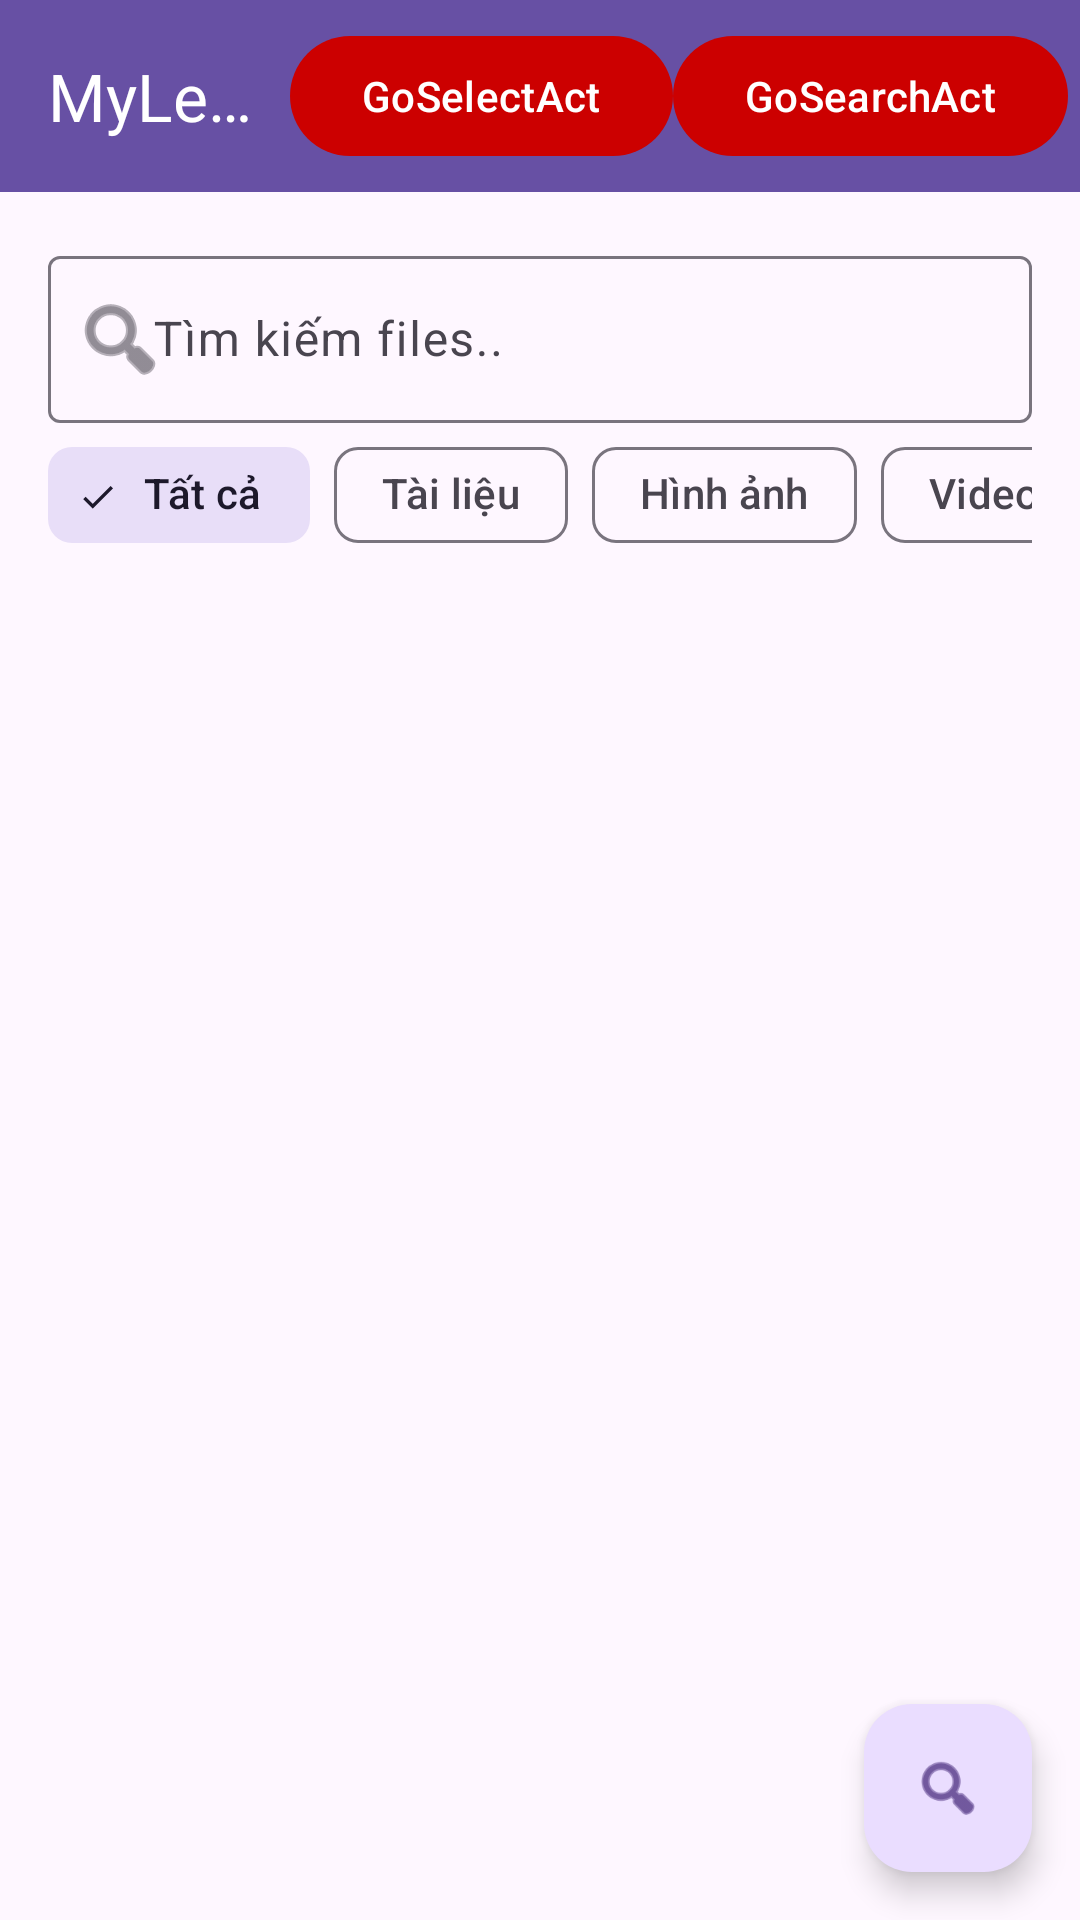

Where to tap for icons on this 1080px x 1920px app screen, as [x,y]:
Quét file: [948,1788]
